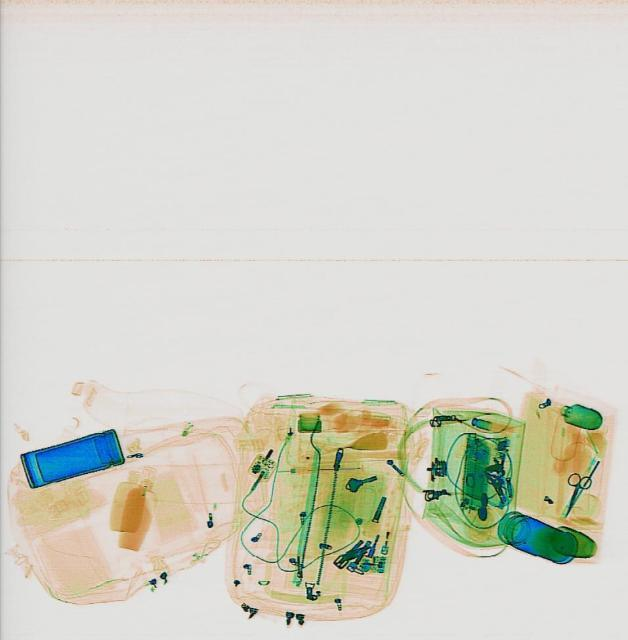Scissors: (556, 471, 591, 519)
